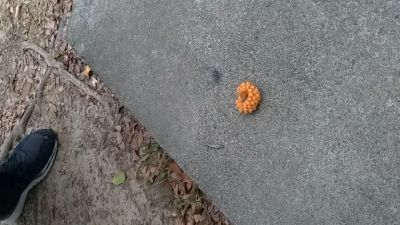eggs: (233, 80, 264, 118)
